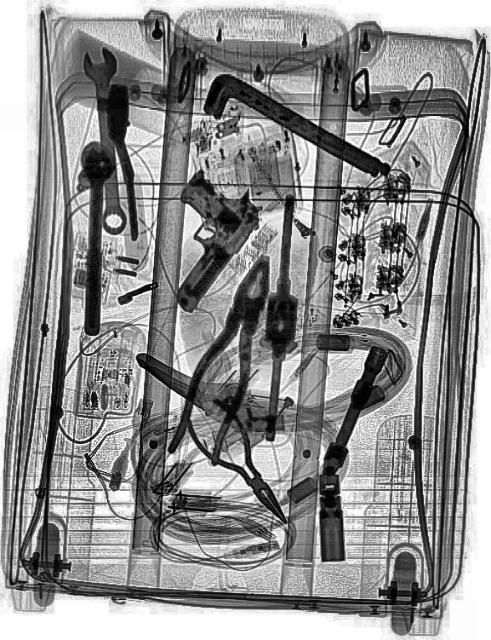Gun: (133, 148, 269, 316)
Pliers: (162, 242, 294, 474), (181, 387, 303, 539)
Wrench: (81, 46, 132, 235)
